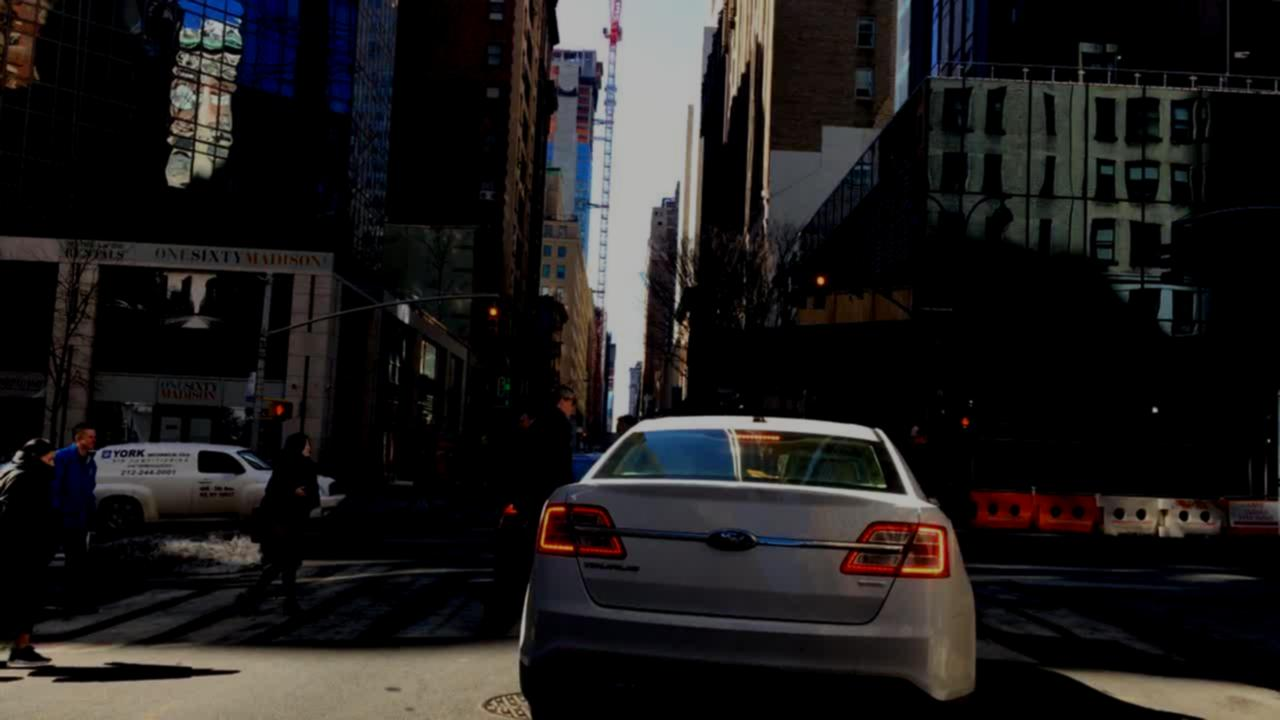ford: (703, 526, 759, 556)
